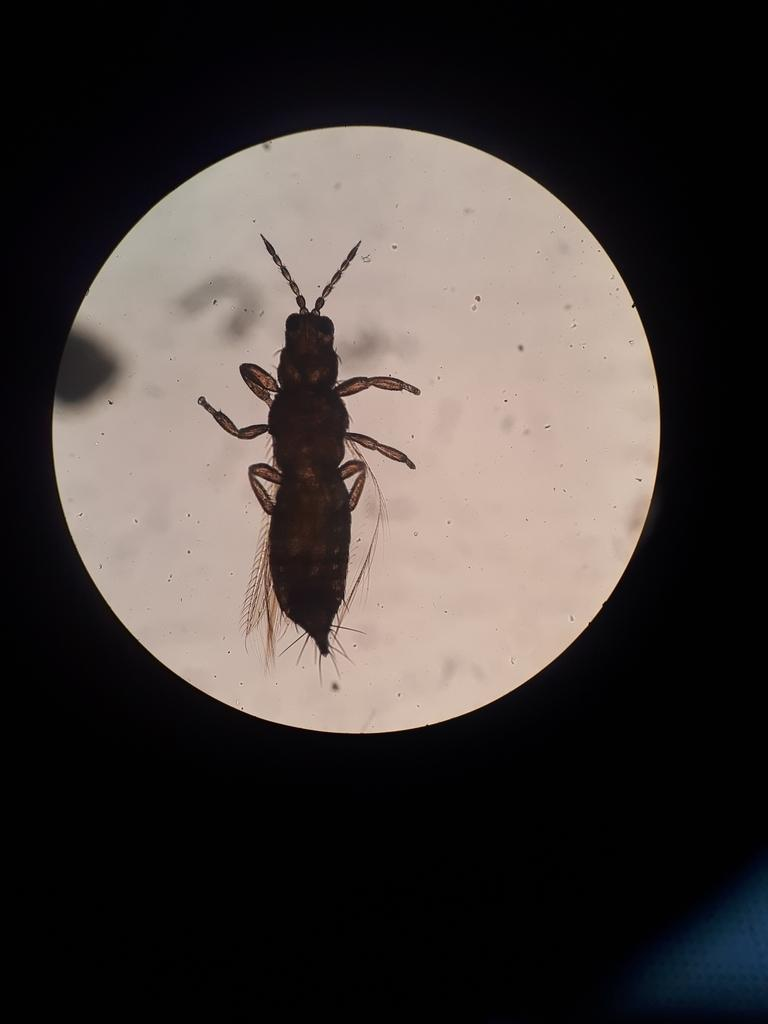tiny_pests: (171, 191, 479, 724)
